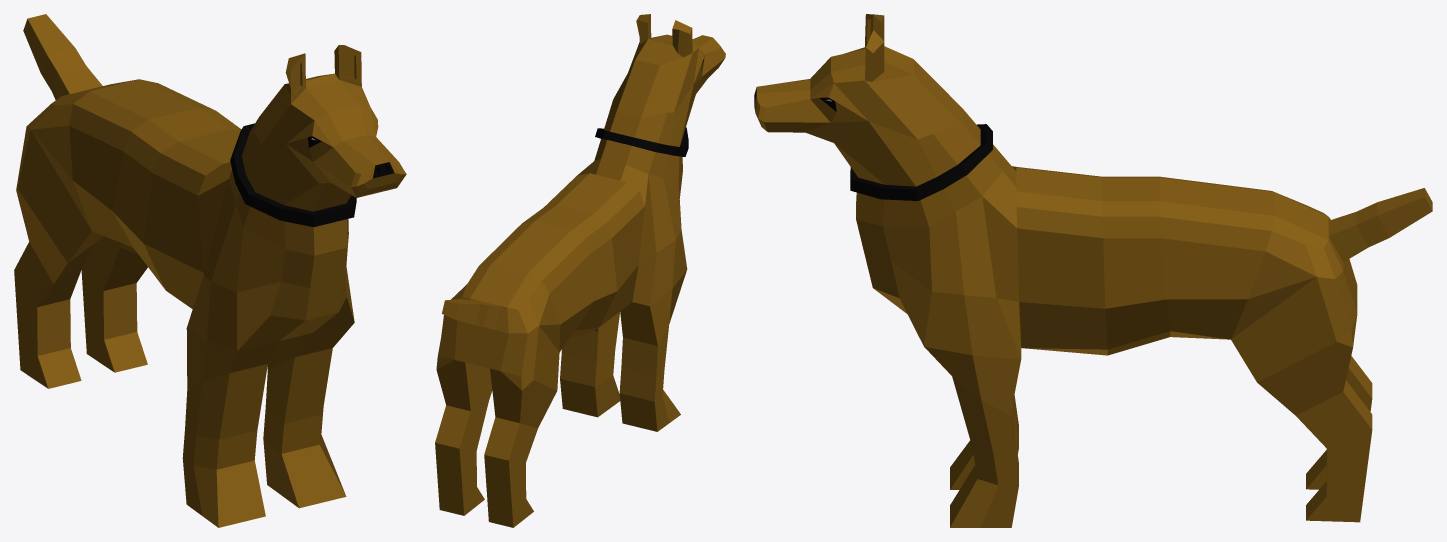
The model's file is DogV2.glb.
3 views of the same model, side by side, from view 1: azimuth 30°, elevation 25°; view 2: azimuth 150°, elevation 25°; view 3: azimuth 270°, elevation 25° (orthographic). The views are drawn at different scales.
Parts seen in each view (by area): view 1: Cube.002; view 2: Cube.002; view 3: Cube.002.
Part boxes in pixels (x1,y1,x2,y2): Cube.002: (14,14,406,527); Cube.002: (435,14,725,527); Cube.002: (754,14,1432,527).
Size of the model in its own units: 0.2869 by 1.05 by 1.35.
